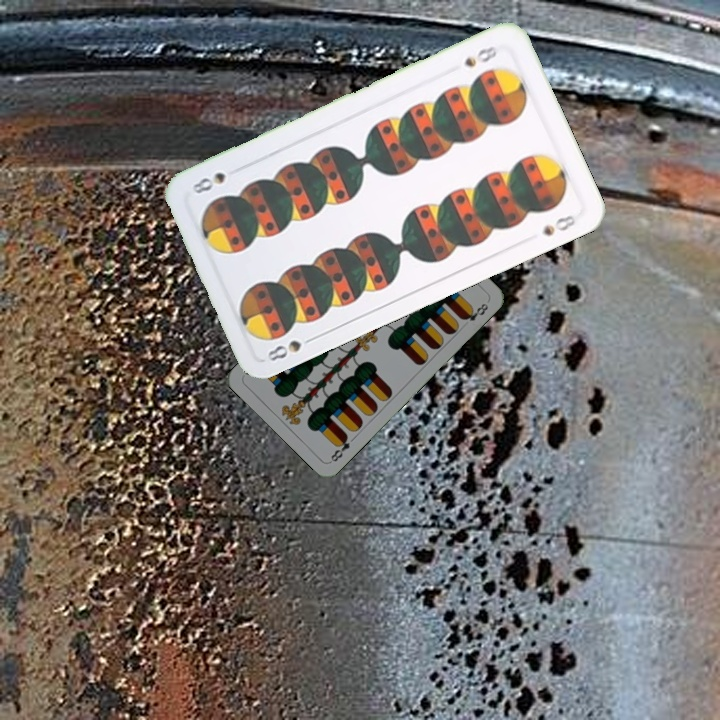E8: (327, 430, 353, 464)
S8: (263, 332, 319, 364), (460, 42, 503, 70)
